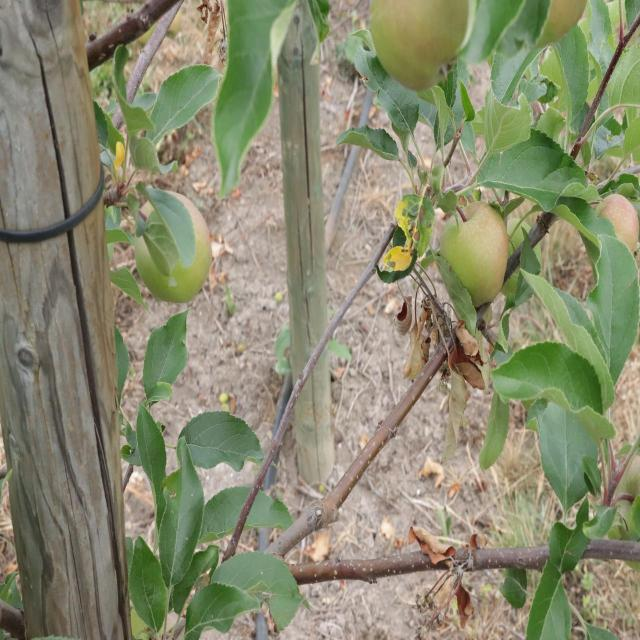-FireBlight-: (412, 280, 492, 391), (416, 516, 484, 635)
